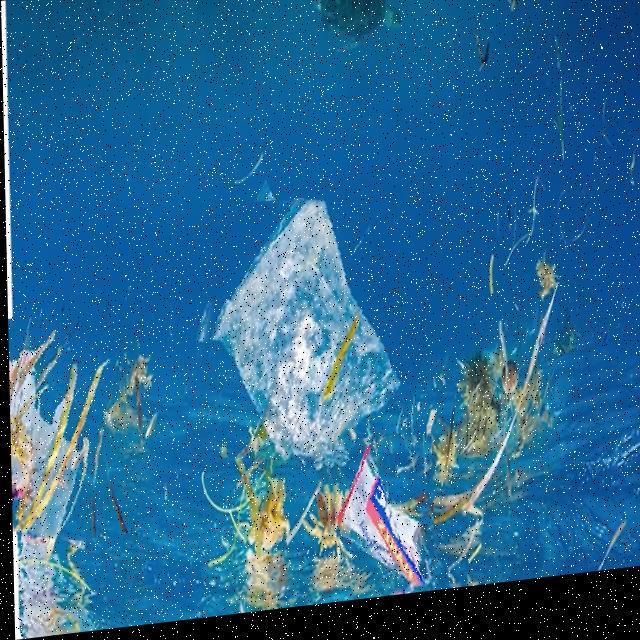litter: (184, 191, 424, 482), (6, 306, 132, 546), (317, 439, 431, 611)
